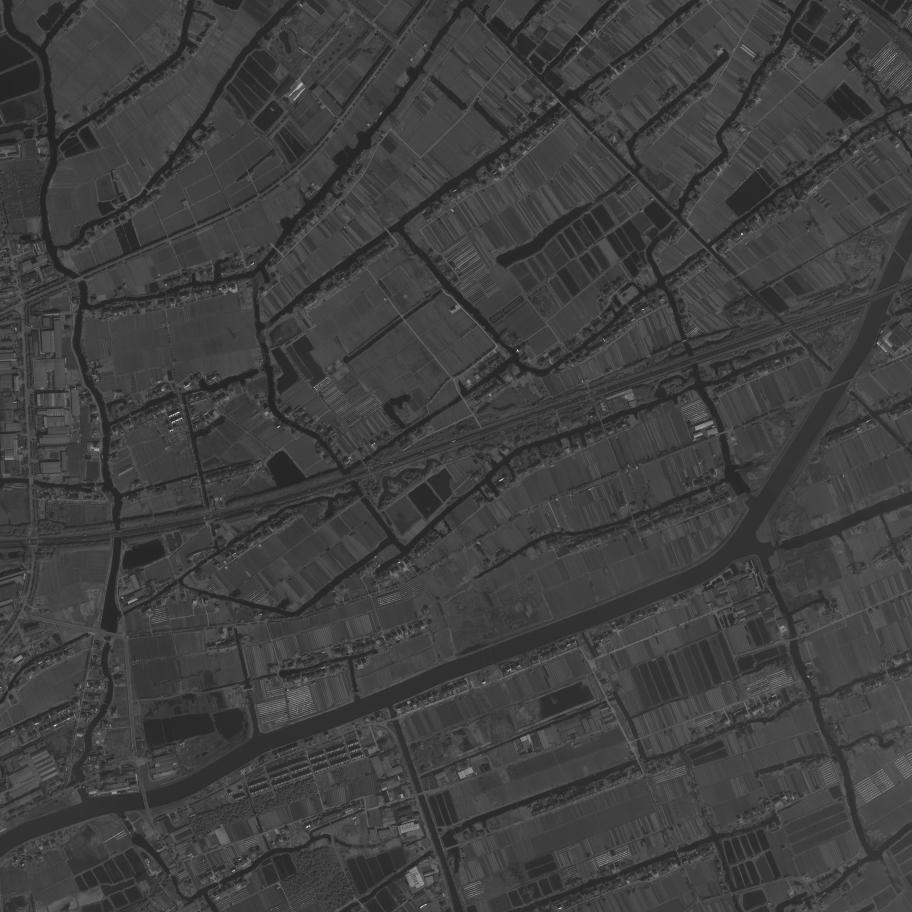ship: (596, 132, 600, 136), (639, 758, 643, 760)
